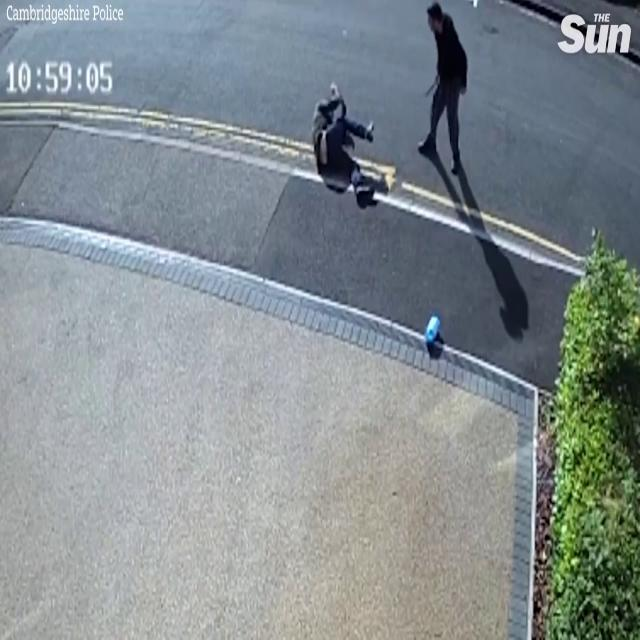Knife_Handle: (424, 75, 439, 97)
